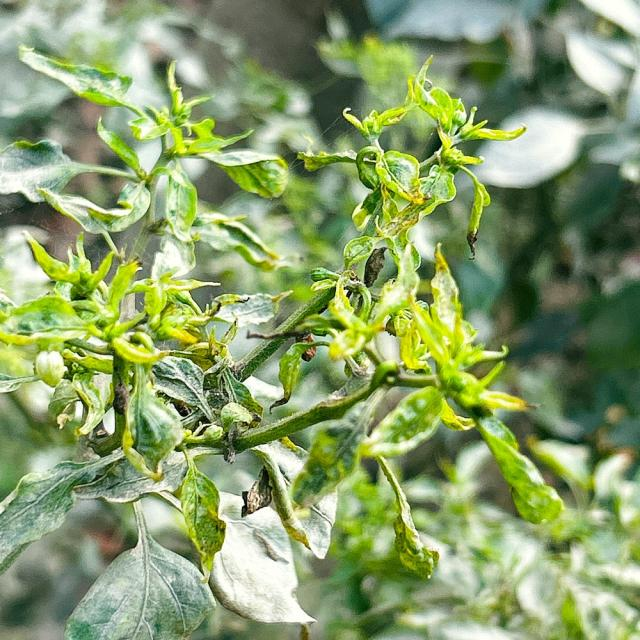Chilli_Leaf_Curl: (1, 42, 566, 638), (0, 228, 236, 480), (296, 53, 526, 259), (63, 496, 216, 639)
